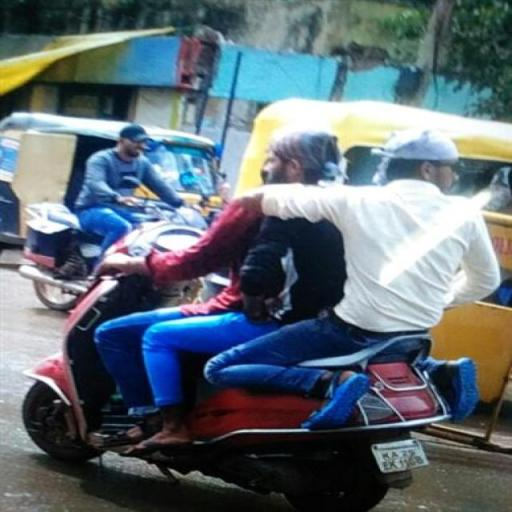tripple riding: (97, 116, 512, 343)
